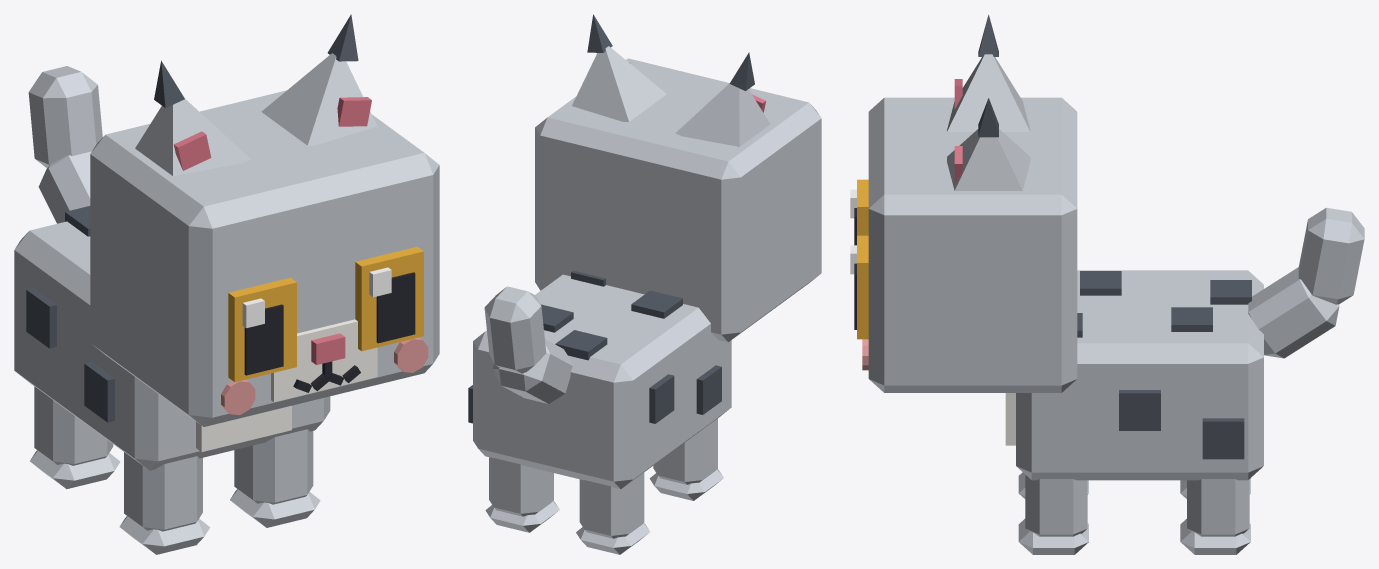
File: CleanACat_Cat_Marble.fbx
The picture shows the model from 3 angles, left to right: view 1: azimuth 30°, elevation 25°; view 2: azimuth 150°, elevation 25°; view 3: azimuth 270°, elevation 25°; orthographic projection. The views are drawn at different scales.
Visible parts, largest first — view 1: CleanACat_Cat_Marble_Head, CleanACat_Cat_Marble_Body, CleanACat_Cat_Marble_Tail, CleanACat_Cat_Marble_EarL, CleanACat_Cat_Marble_LegF2, CleanACat_Cat_Marble_LegF1, CleanACat_Cat_Marble_Eye2, CleanACat_Cat_Marble_Eye1, CleanACat_Cat_Marble_EarR, CleanACat_Cat_Marble_LegB2; view 2: CleanACat_Cat_Marble_Head, CleanACat_Cat_Marble_Body, CleanACat_Cat_Marble_Tail, CleanACat_Cat_Marble_EarL, CleanACat_Cat_Marble_LegB2, CleanACat_Cat_Marble_LegB1, CleanACat_Cat_Marble_EarR, CleanACat_Cat_Marble_LegF2; view 3: CleanACat_Cat_Marble_Head, CleanACat_Cat_Marble_Body, CleanACat_Cat_Marble_Tail, CleanACat_Cat_Marble_LegF1, CleanACat_Cat_Marble_LegB1, CleanACat_Cat_Marble_EarL, CleanACat_Cat_Marble_EarR, CleanACat_Cat_Marble_Eye1, CleanACat_Cat_Marble_Eye2.
Part boxes in pixels (x1,y1,x2,y2): CleanACat_Cat_Marble_Head: (90,90,439,426); CleanACat_Cat_Marble_Body: (14,206,330,470); CleanACat_Cat_Marble_Tail: (28,66,102,223); CleanACat_Cat_Marble_EarL: (261,14,376,145); CleanACat_Cat_Marble_LegF2: (119,452,209,554); CleanACat_Cat_Marble_LegF1: (230,429,320,527); CleanACat_Cat_Marble_Eye2: (228,277,296,381); CleanACat_Cat_Marble_Eye1: (355,246,423,351); CleanACat_Cat_Marble_EarR: (135,60,250,175); CleanACat_Cat_Marble_LegB2: (30,386,120,489); CleanACat_Cat_Marble_Head: (535,58,821,342); CleanACat_Cat_Marble_Body: (468,270,731,489); CleanACat_Cat_Marble_Tail: (484,286,572,403); CleanACat_Cat_Marble_EarL: (572,14,666,121); CleanACat_Cat_Marble_LegB2: (576,472,649,554); CleanACat_Cat_Marble_LegB1: (485,457,559,532); CleanACat_Cat_Marble_EarR: (675,52,770,146); CleanACat_Cat_Marble_LegF2: (649,418,723,500); CleanACat_Cat_Marble_Head: (862,97,1077,392); CleanACat_Cat_Marble_Body: (1005,270,1263,480); CleanACat_Cat_Marble_Tail: (1248,207,1364,358); CleanACat_Cat_Marble_LegF1: (1018,475,1088,554); CleanACat_Cat_Marble_LegB1: (1180,479,1250,554); CleanACat_Cat_Marble_EarL: (947,98,1030,190); CleanACat_Cat_Marble_EarR: (947,14,1030,131); CleanACat_Cat_Marble_Eye1: (850,235,868,339); CleanACat_Cat_Marble_Eye2: (850,179,868,245).
Size of the model in its own units: 1 by 1.97 by 1.97.
Materials: 1 (1 with a texture image).
